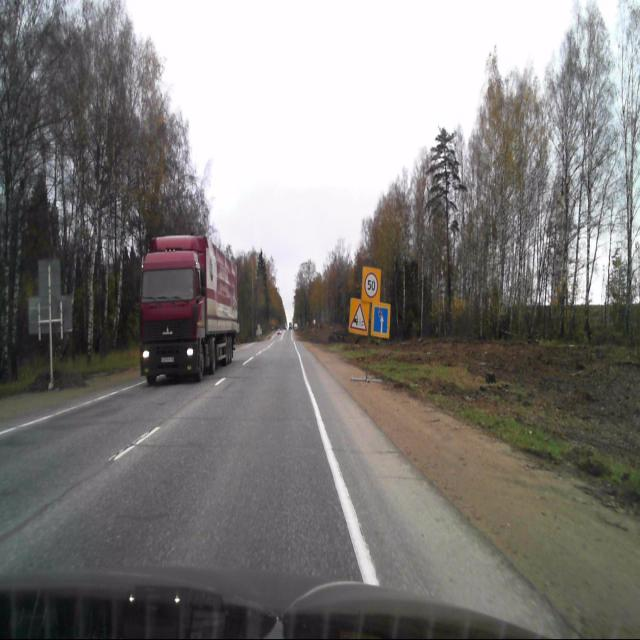road sign: (348, 299, 368, 337), (370, 303, 390, 338)
